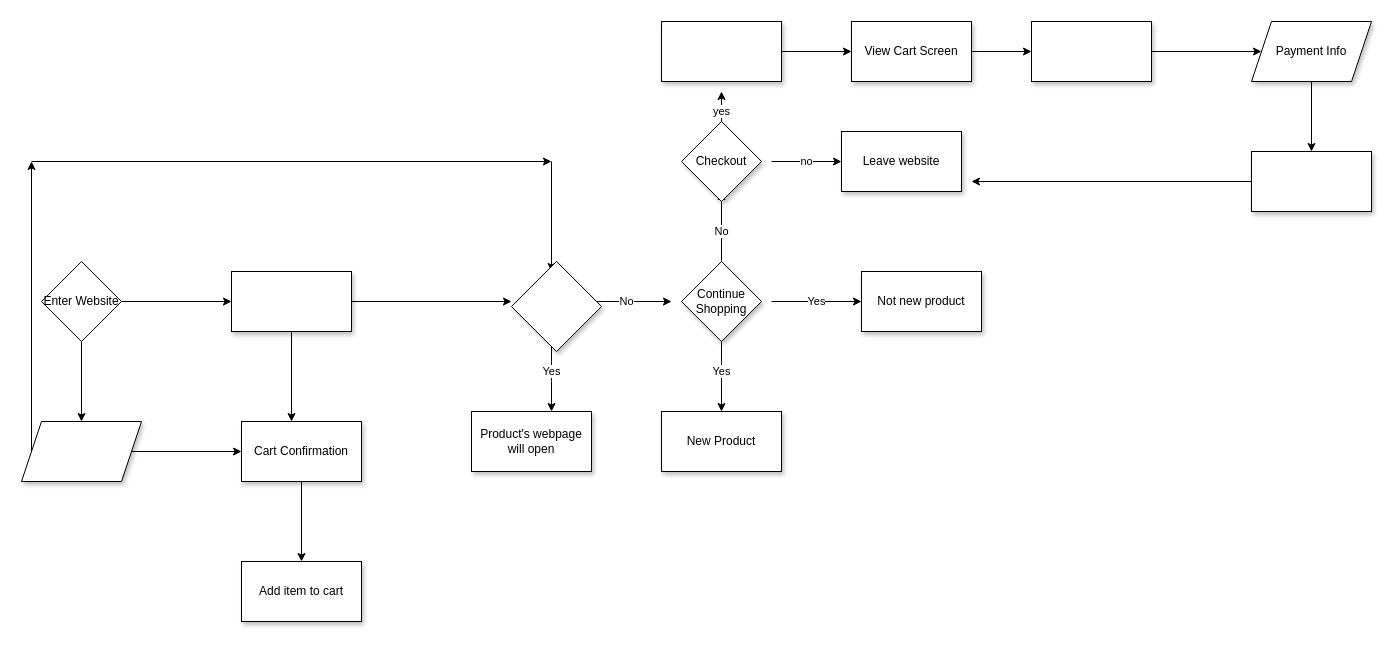
Some shapes in this 1395 by 646 pixel diagram are drawn without their labels. Here are the shapes that lost their labels. From the top down, the centre of each, then its label:
point (722, 52): View Cart
point (1092, 52): View Payment Screen
point (1312, 182): Order Confirmation/Receive Email
point (292, 302): Exploring Products
point (557, 307): View Specific Item
point (82, 452): Read Product Search
